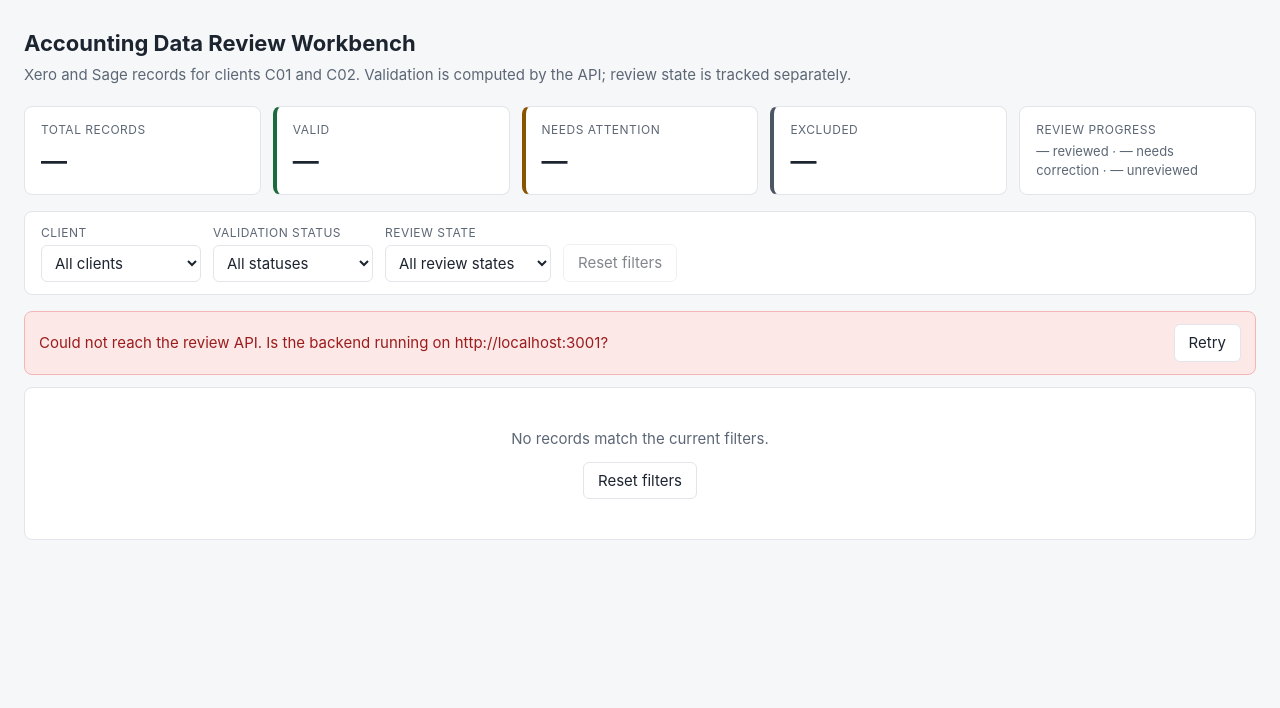
Test: Review workbench › surfaces a load failure and recovers on retry
Expected: the message with test id "load-error" shows "Could not reach the review API", [39, 333, 608, 352]
Click the button "Retry". click: (1207, 343)
box: [1174, 324, 1241, 362]
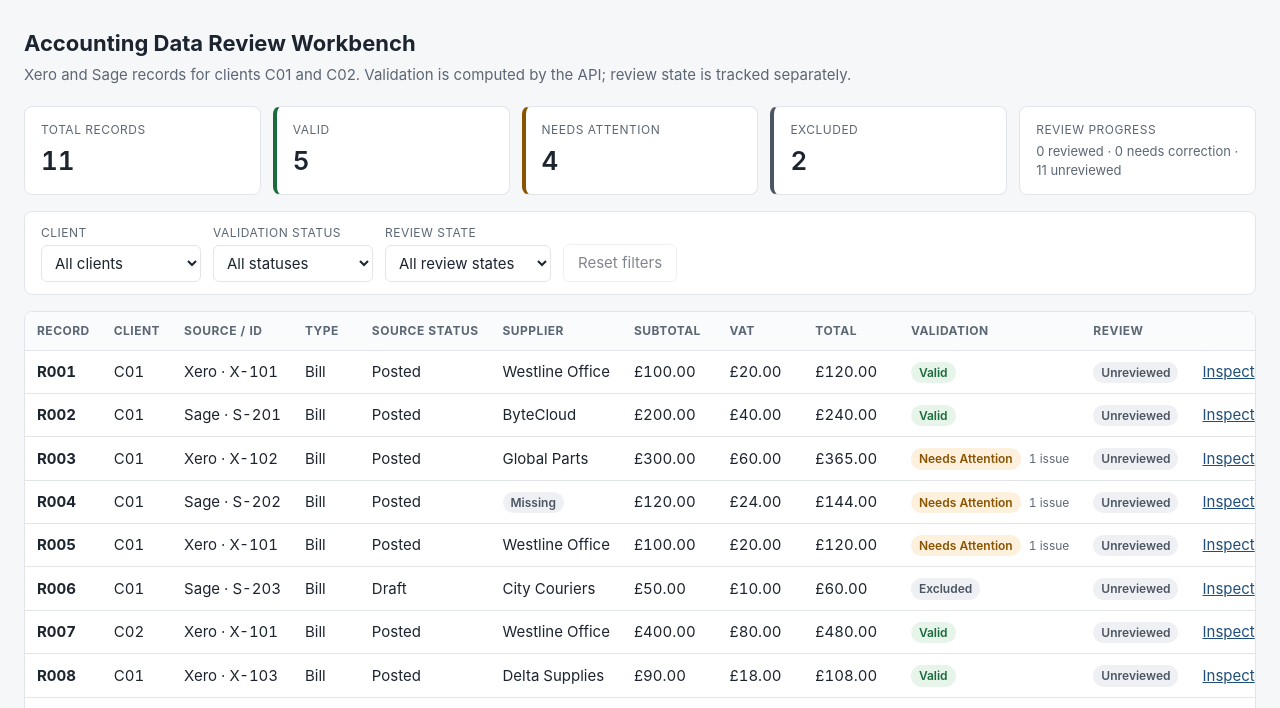
Expected: the row with test id "row-R001" is shown, [25, 350, 1256, 393]
Expected: the message with test id "load-error" is gone
